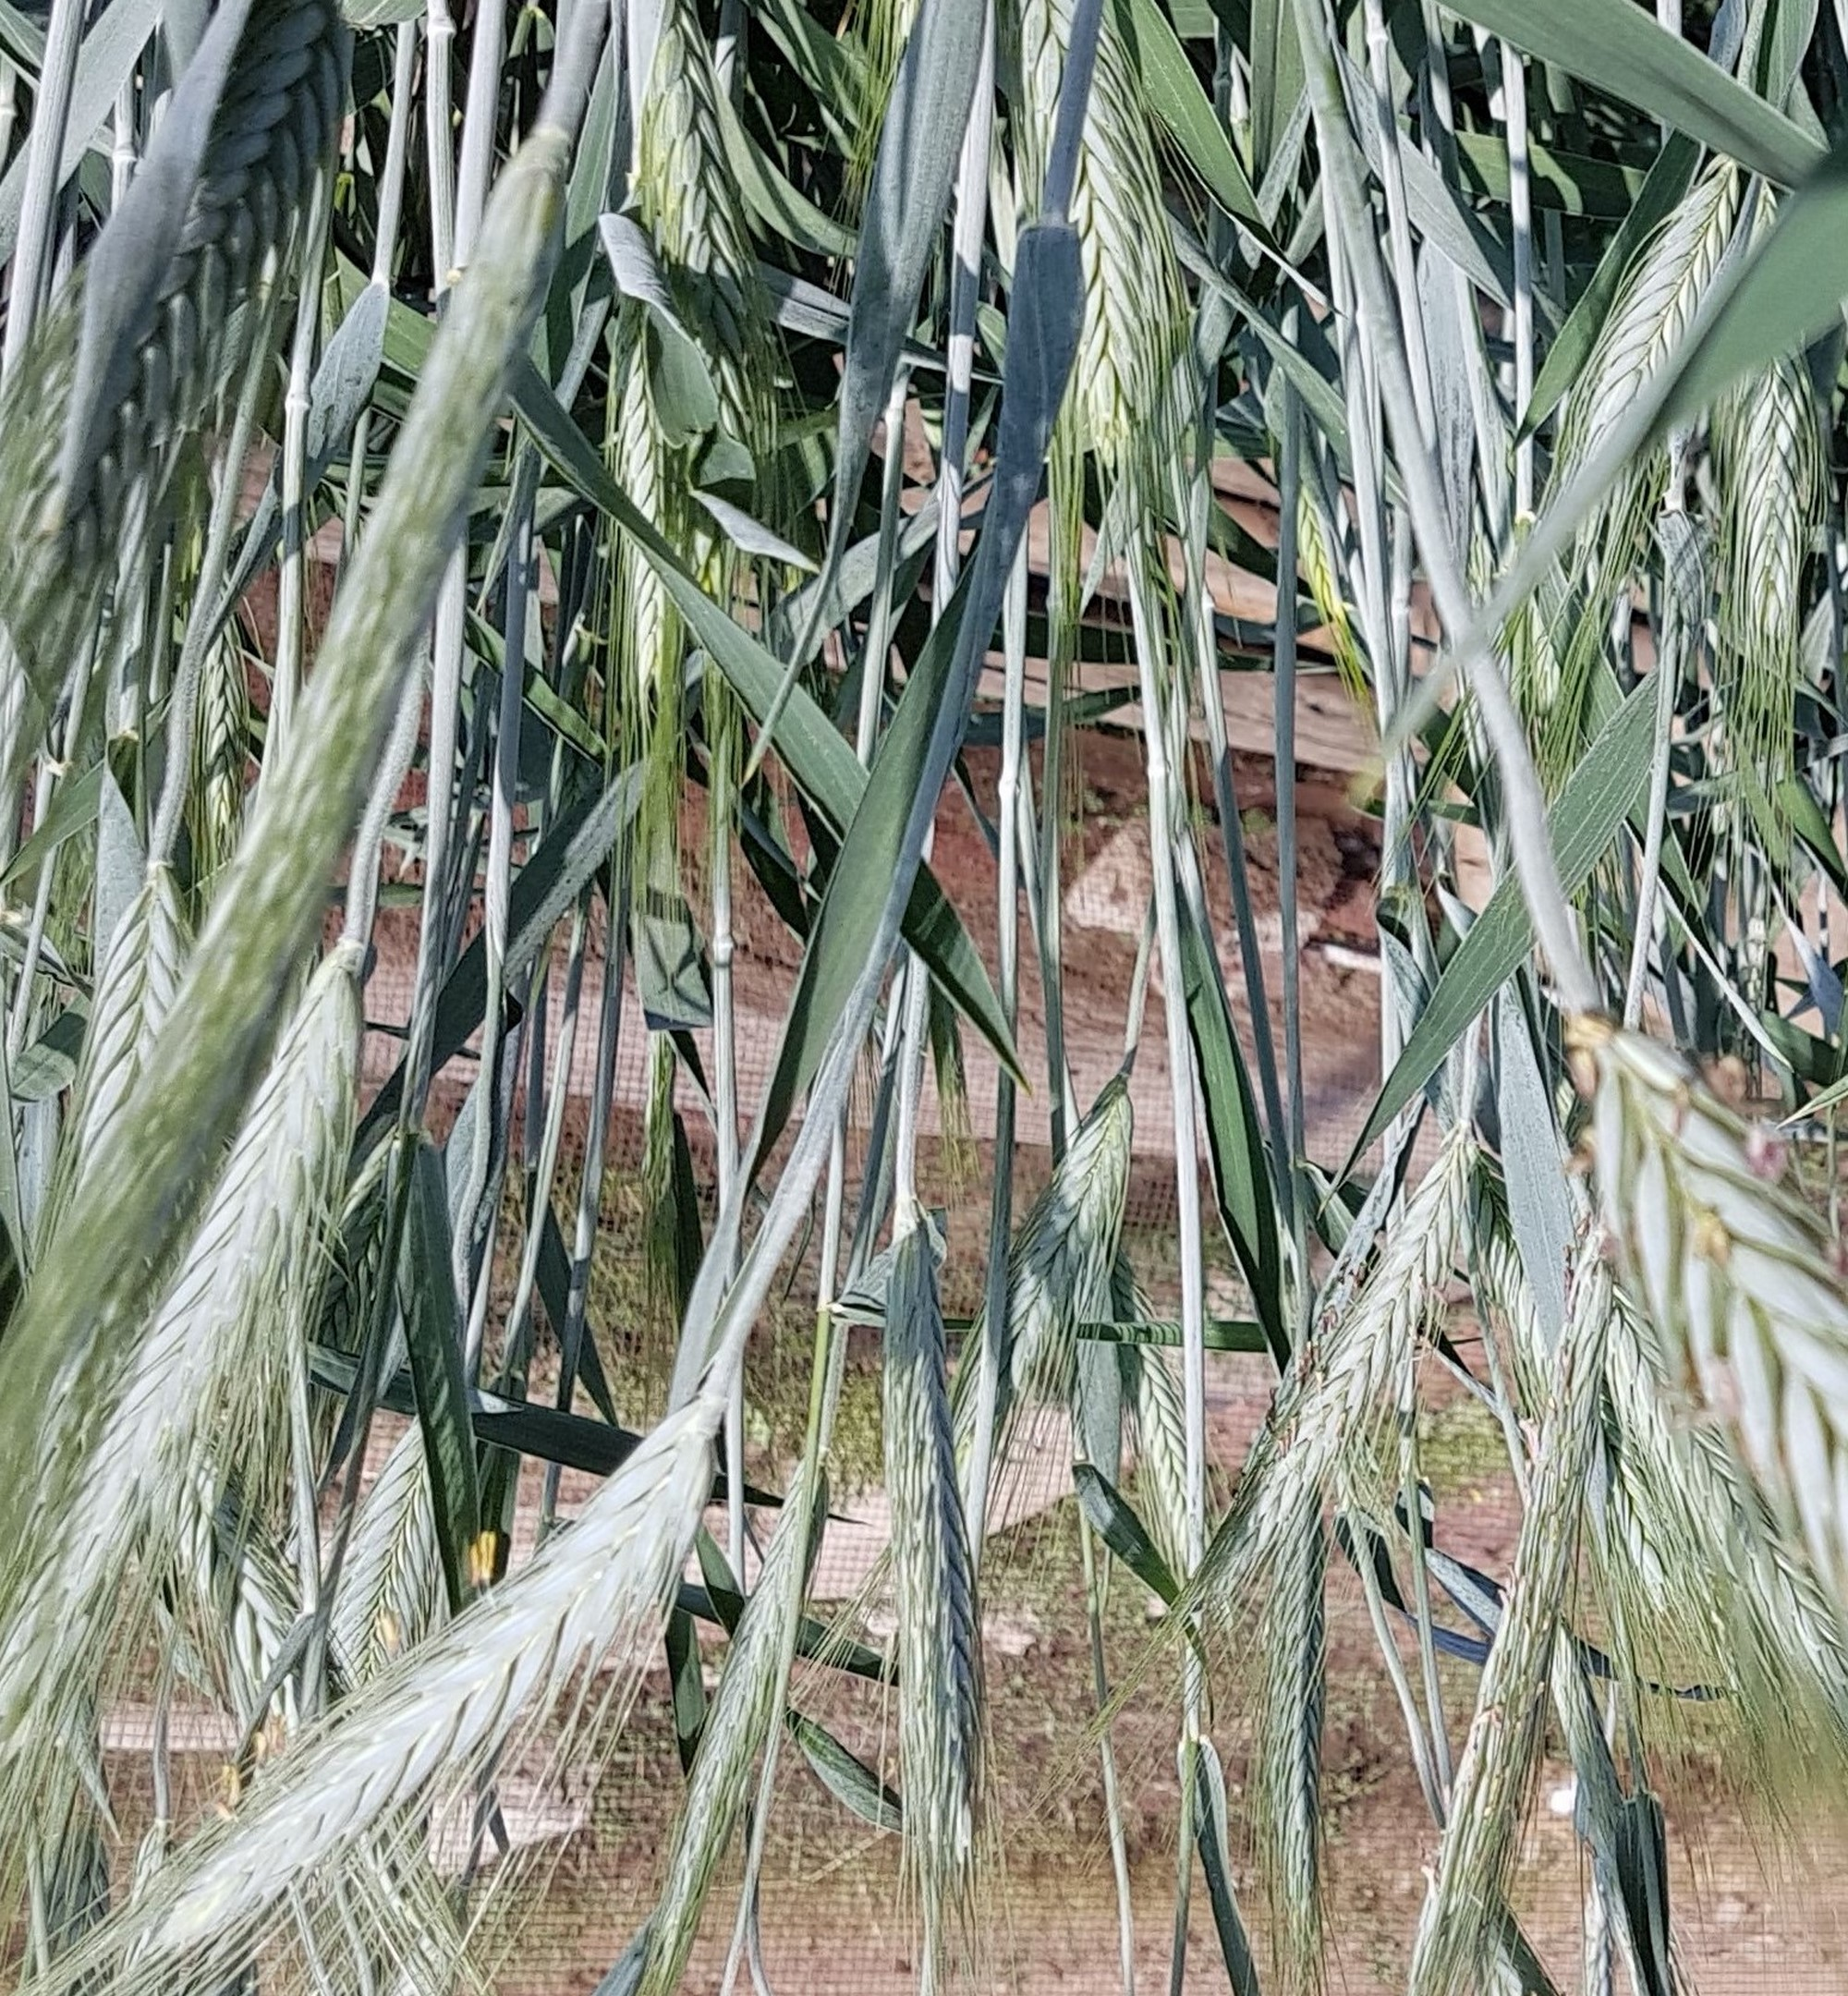Healthy Wheat: (1182, 1118, 1506, 1593), (845, 1196, 1048, 1833)
